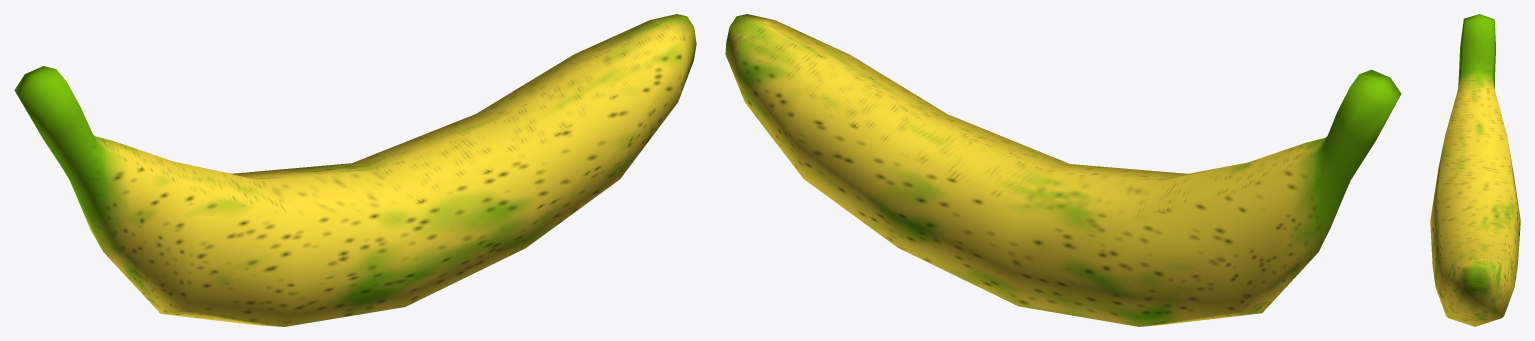
File: banana.glb
3 renders of one model, left to right at view 1: azimuth 30°, elevation 25°; view 2: azimuth 150°, elevation 25°; view 3: azimuth 270°, elevation 25°, orthographic. The views are drawn at different scales.
Visible parts, largest first — view 1: Object_4; view 2: Object_4; view 3: Object_4.
Part boxes in pixels (bbox=[...]): Object_4: bbox=[14, 14, 696, 326]; Object_4: bbox=[725, 14, 1401, 326]; Object_4: bbox=[1430, 14, 1520, 326].
Bounding box in the file's own units: 3.43 × 1.52 × 0.6541.
1 material, 1 textured.
